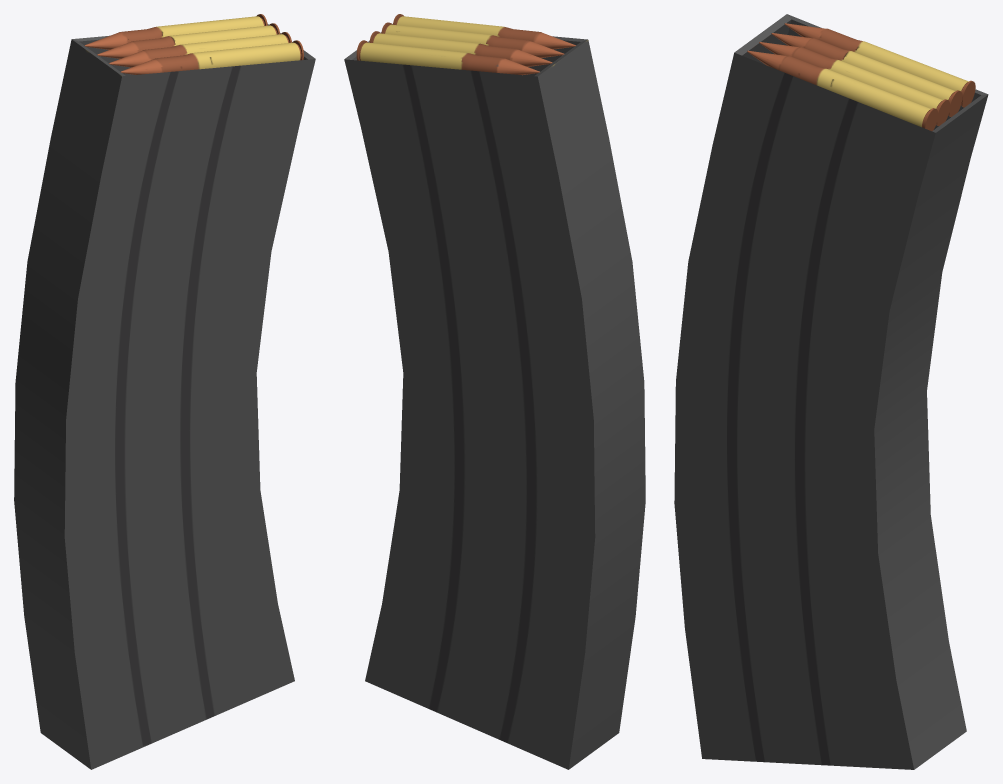
File: AmmoMagazine.fbx
3 views of the same model, side by side, from view 1: azimuth 30°, elevation 25°; view 2: azimuth 150°, elevation 25°; view 3: azimuth 330°, elevation 25° (orthographic). The views are drawn at different scales.
Visible parts, largest first — view 1: Magazine; view 2: Magazine; view 3: Magazine.
Boxes of the visible parts, <box> form: Magazine: <box>14,14,315,769</box>; Magazine: <box>344,14,645,769</box>; Magazine: <box>674,14,988,769</box>.
Size of the model in its own units: 12 by 31.39 by 4.19.
